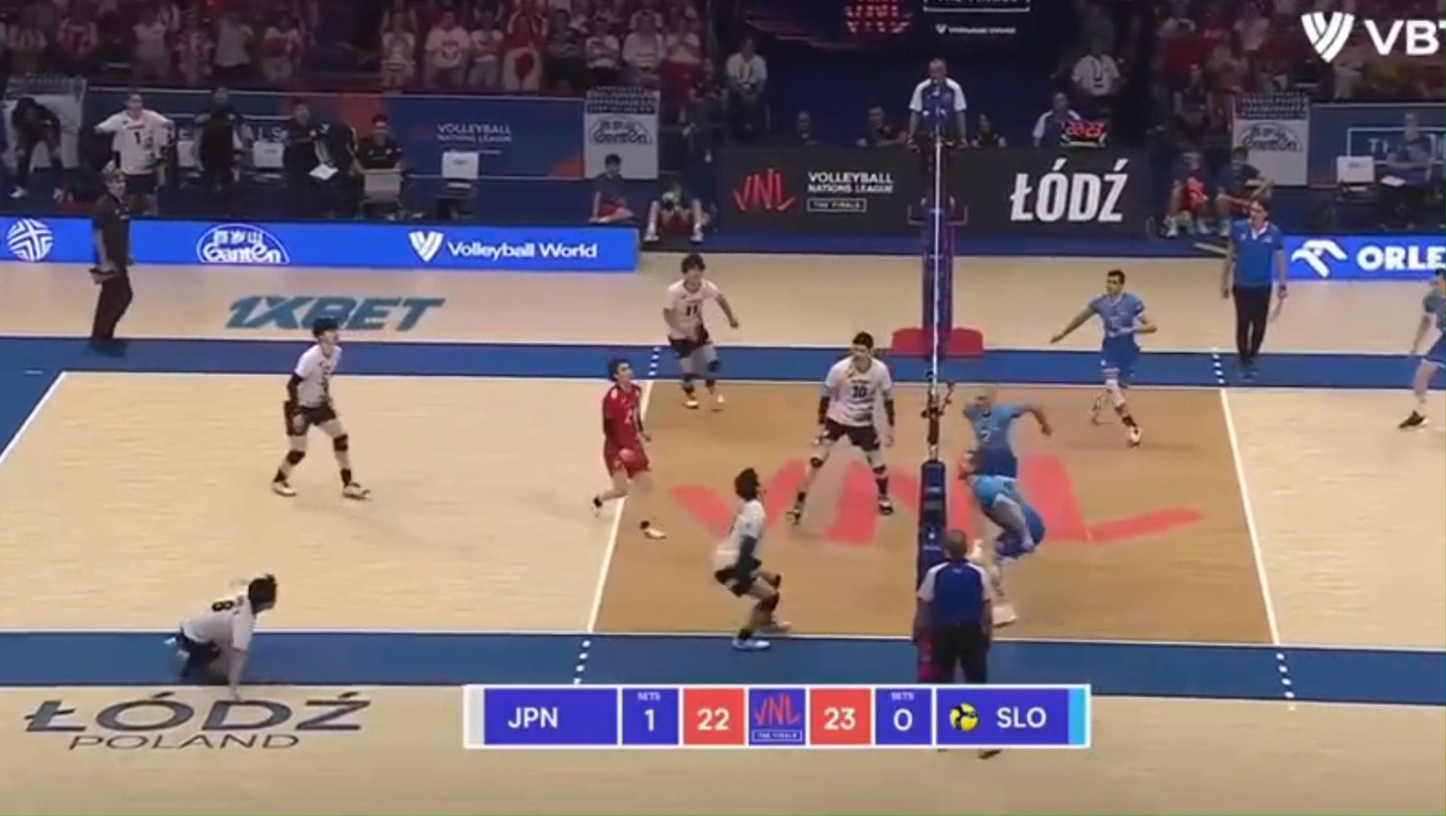player: (1050, 269, 1157, 447), (959, 450, 1045, 626), (963, 394, 1049, 478)
player 1: (786, 332, 894, 523), (271, 318, 369, 499), (713, 468, 787, 650), (592, 359, 666, 539), (173, 573, 277, 694), (662, 252, 740, 409)
referee: (916, 530, 993, 683), (1221, 200, 1287, 378), (907, 58, 969, 225), (90, 171, 134, 346)
